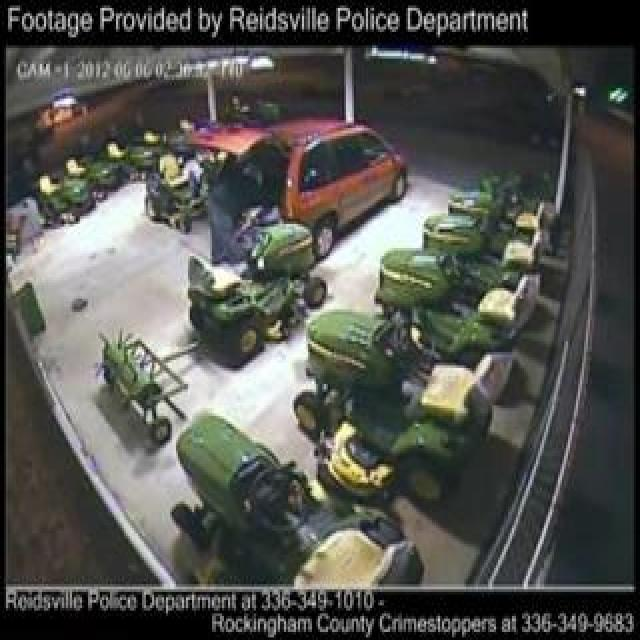thief: (192, 165, 260, 284)
